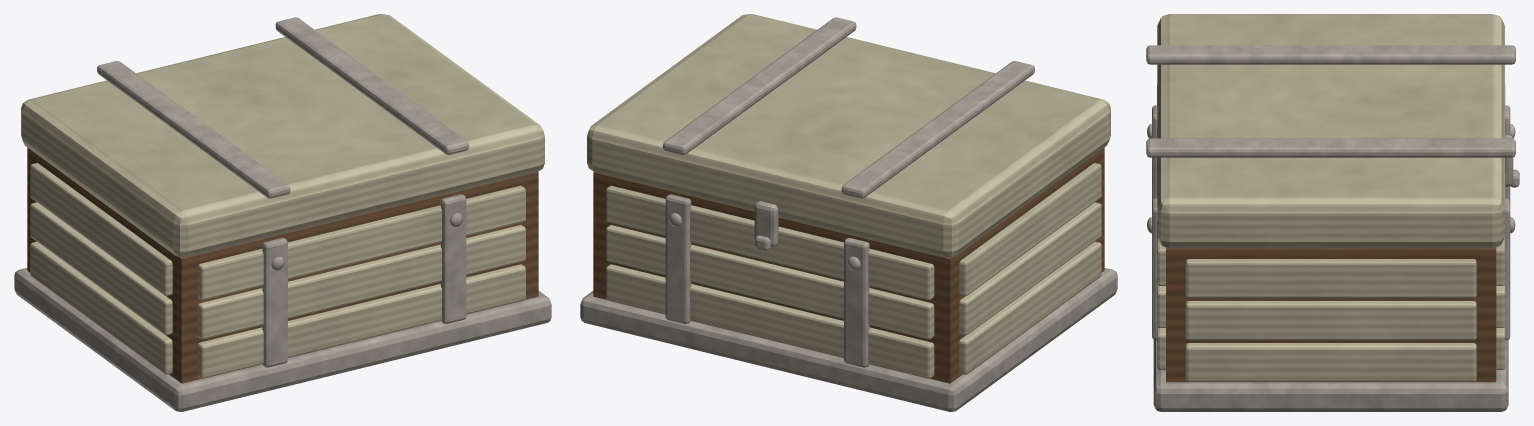
Rendered from SM_Chest_Plank_M_01.glb.
3 views of the same model, side by side, from view 1: azimuth 30°, elevation 25°; view 2: azimuth 150°, elevation 25°; view 3: azimuth 270°, elevation 25° (orthographic). The views are drawn at different scales.
Parts seen in each view (by area): view 1: SM_Chest_Plank_M_01_Body, SM_Chest_Plank_M_01_Lid; view 2: SM_Chest_Plank_M_01_Lid, SM_Chest_Plank_M_01_Body; view 3: SM_Chest_Plank_M_01_Lid, SM_Chest_Plank_M_01_Body.
Boxes of the visible parts, <box> form: SM_Chest_Plank_M_01_Body: <box>14,147,551,411</box>; SM_Chest_Plank_M_01_Lid: <box>21,14,544,257</box>; SM_Chest_Plank_M_01_Lid: <box>587,14,1110,257</box>; SM_Chest_Plank_M_01_Body: <box>580,147,1117,411</box>; SM_Chest_Plank_M_01_Lid: <box>1146,14,1515,248</box>; SM_Chest_Plank_M_01_Body: <box>1147,85,1519,411</box>.
Bounding box in the file's own units: 1.9 × 0.9925 × 1.52.
Materials: 2 (2 with a texture image).
